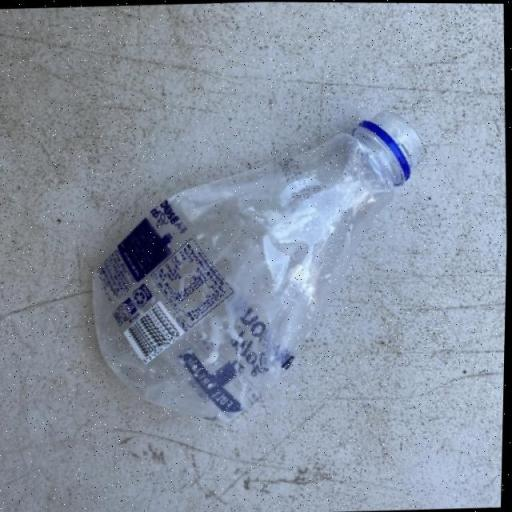plastic: (82, 104, 434, 427)
